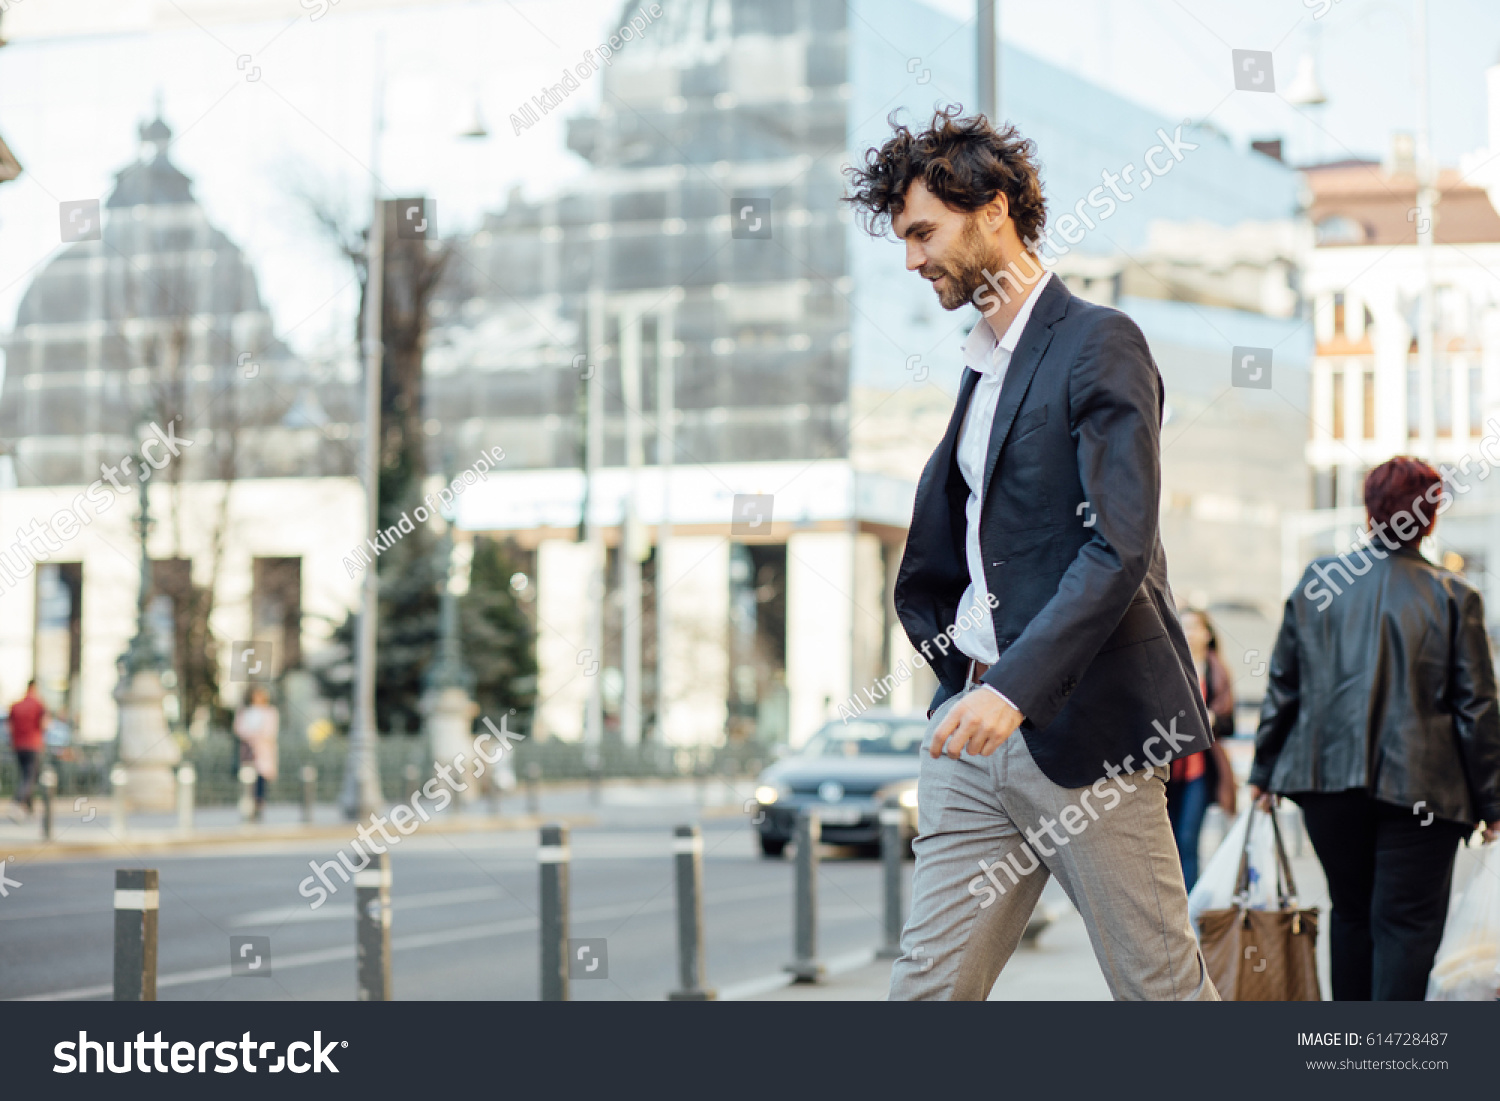car: (753, 702, 946, 864)
person: (844, 106, 1246, 1002), (1247, 452, 1500, 1000), (222, 683, 288, 827)
